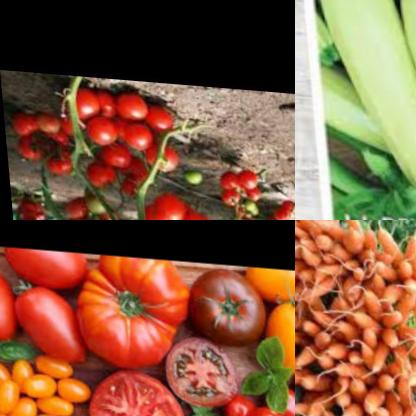carrot: (295, 220, 416, 416)
tomato: (55, 77, 181, 201), (66, 249, 187, 373), (0, 346, 101, 416), (6, 276, 83, 362), (183, 357, 295, 416), (155, 327, 240, 404), (8, 106, 87, 185), (80, 360, 185, 416), (181, 266, 257, 340), (0, 244, 85, 294), (255, 287, 295, 375), (236, 260, 295, 303), (213, 164, 265, 211), (136, 187, 209, 220), (0, 252, 20, 348), (55, 190, 118, 220), (6, 187, 61, 220)
vegetable marrow: (316, 0, 416, 207)
